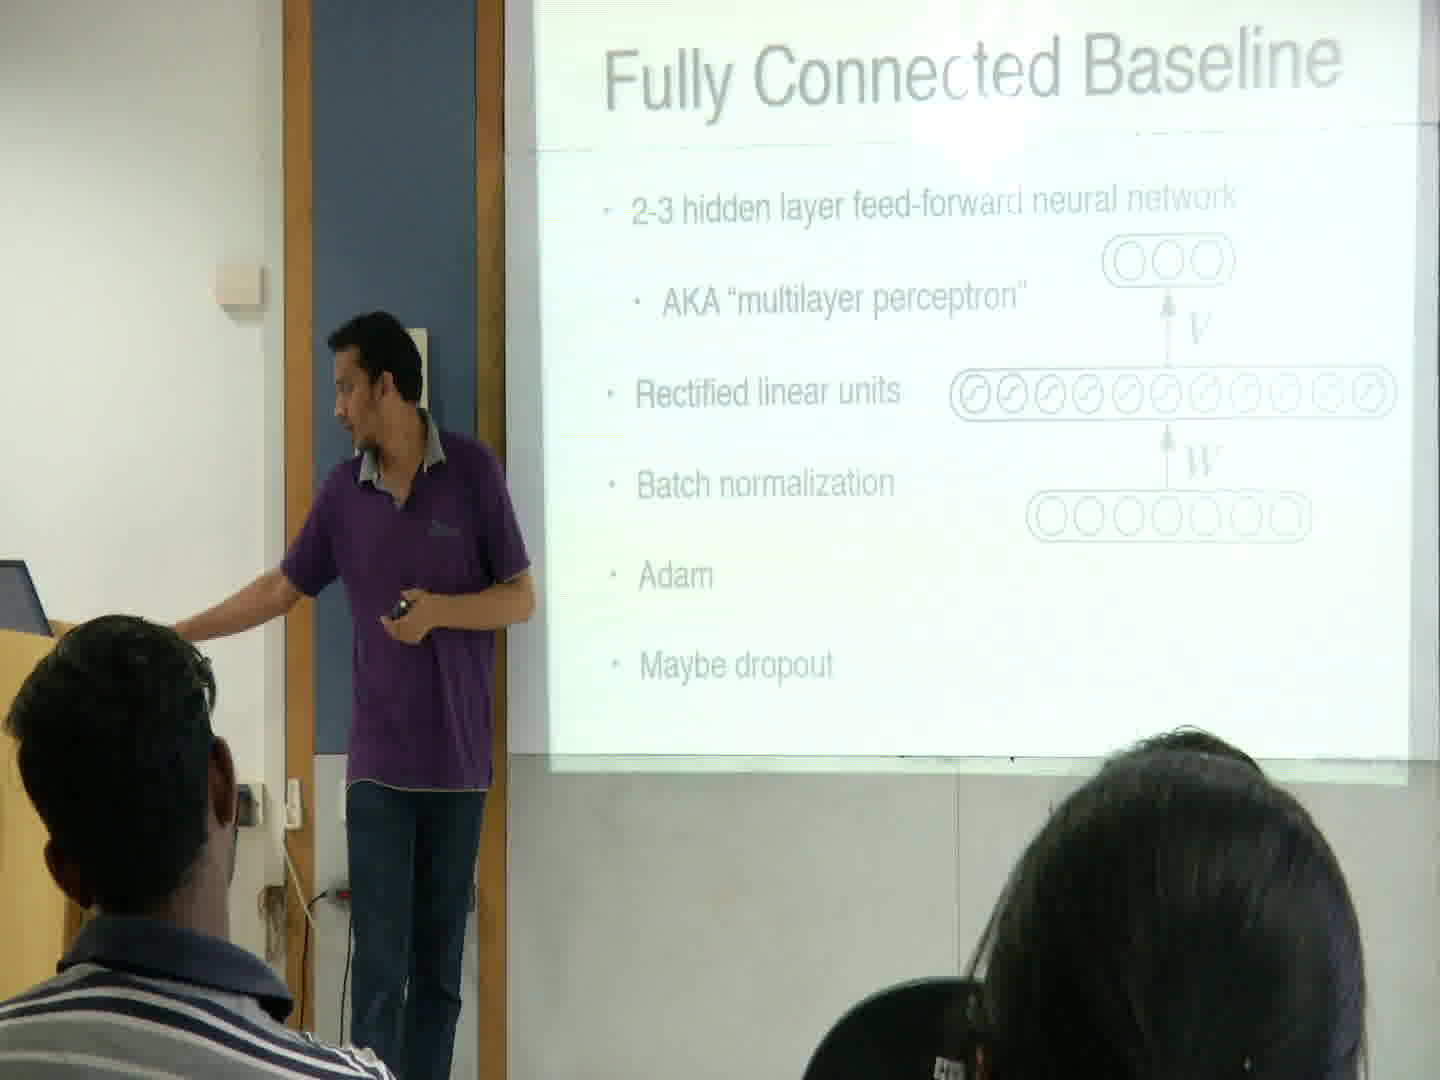fig: (942, 226, 1405, 549)
